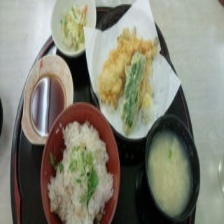rice: (43, 118, 116, 224)
